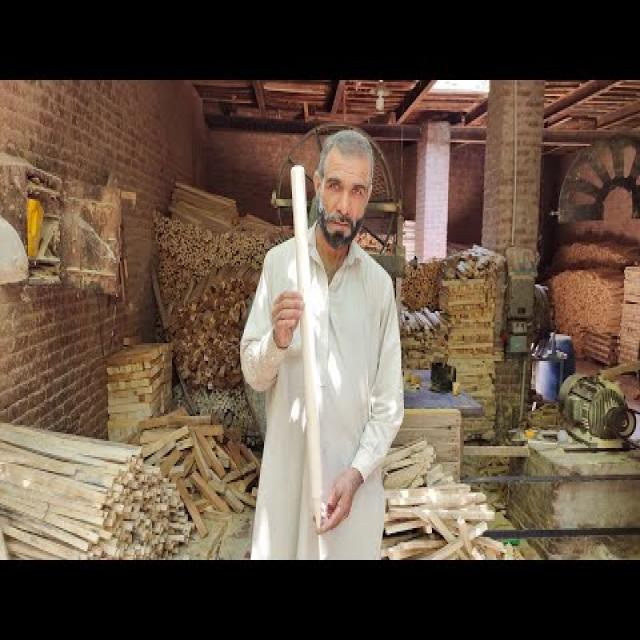stump: (291, 164, 323, 536)
